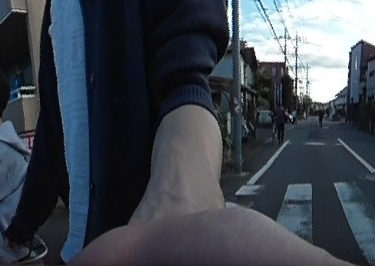person: (275, 99, 285, 143), (317, 106, 323, 126)
